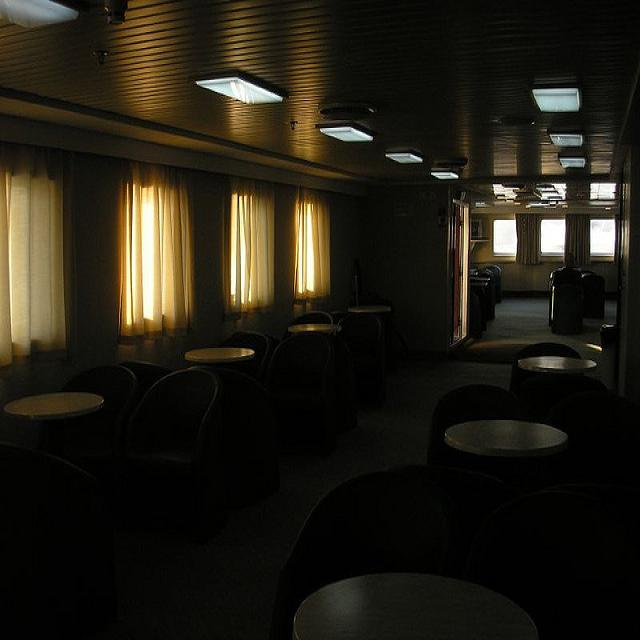Table: (274, 553, 574, 640), (446, 404, 578, 494), (1, 371, 117, 472), (516, 339, 602, 415), (192, 320, 258, 413), (284, 308, 356, 352)
chair: (138, 361, 222, 515)
